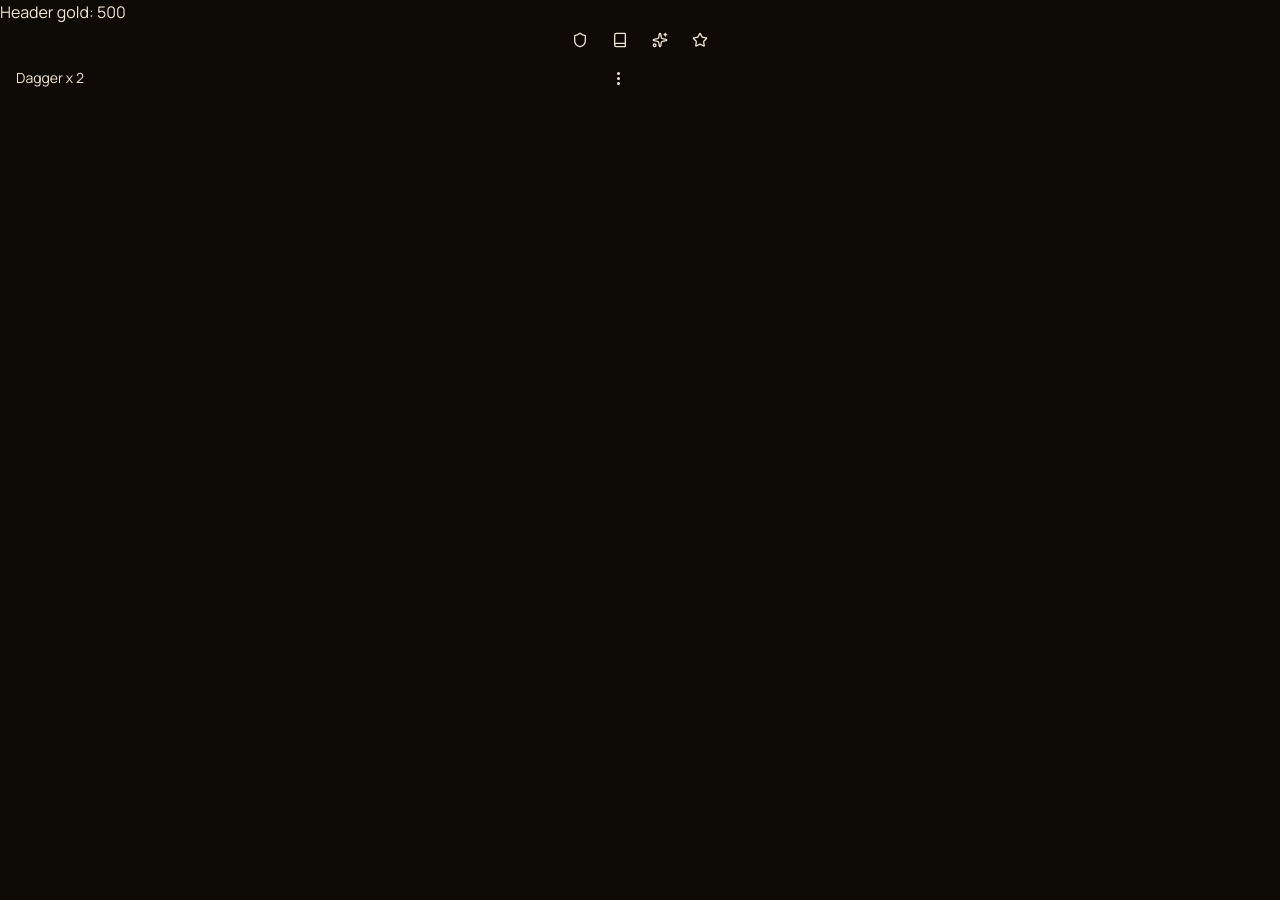
unit item menu: Sell › starts at the copy's suggested sale price and says where it comes from (decision 3)
Click the button named "Actions for Dagger x 2": [618, 78] box [610,68,626,88]
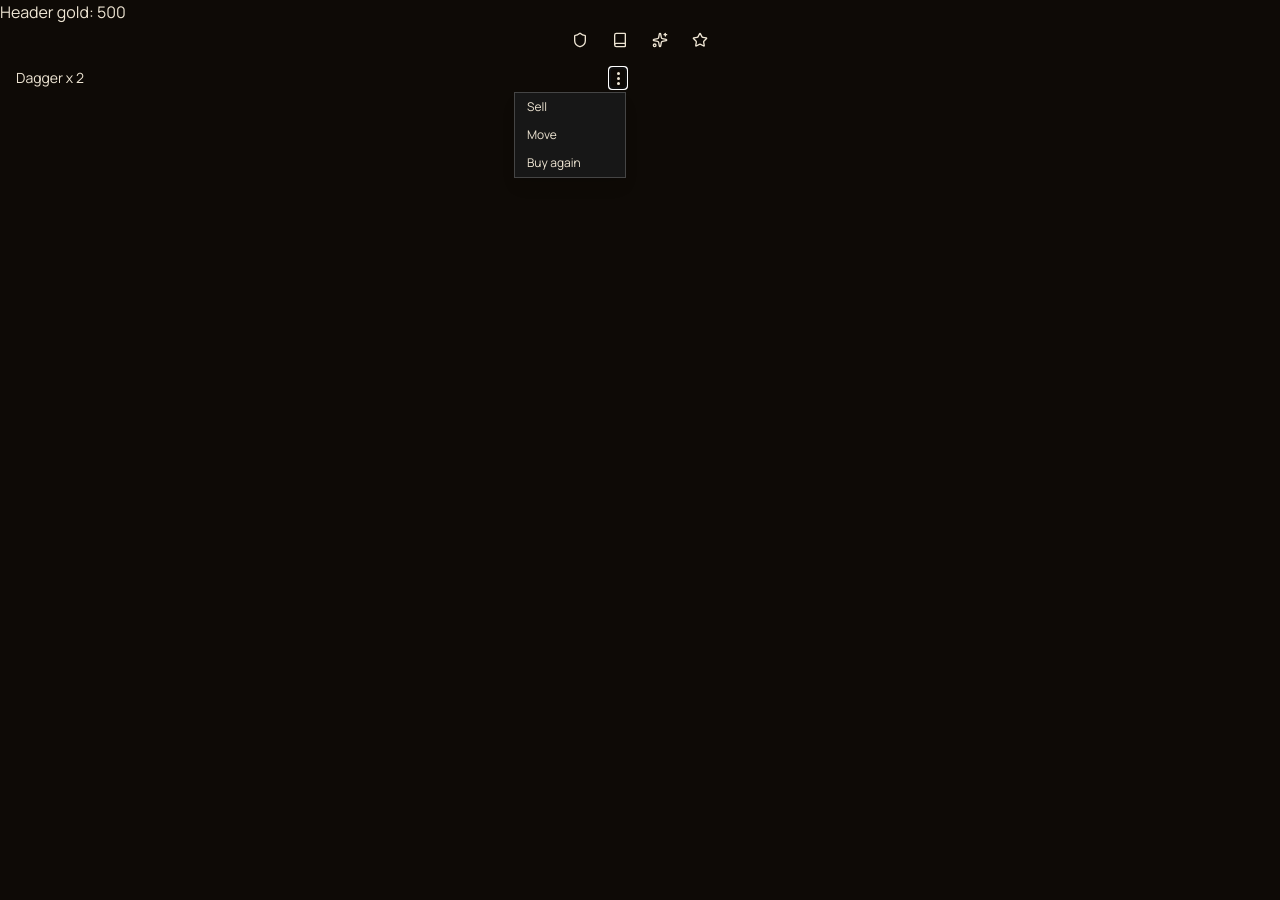
Click the button "Sell": [570, 107] box [515,93,625,121]
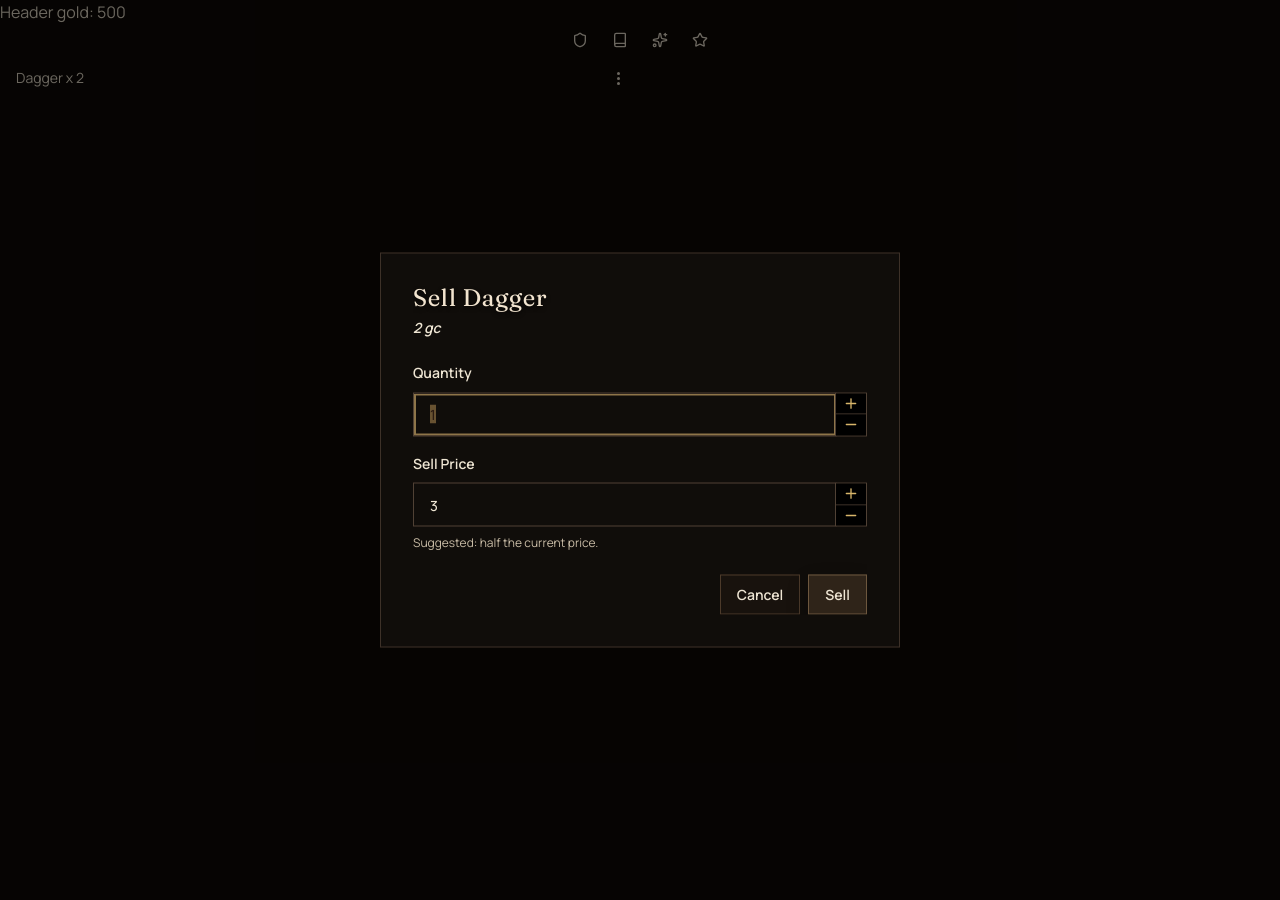
Result: the number field below "Sell Price" holds "3" at [413,482,837,526]
Result: the text "Suggested: half the current price." is shown at [413,534,598,550]
